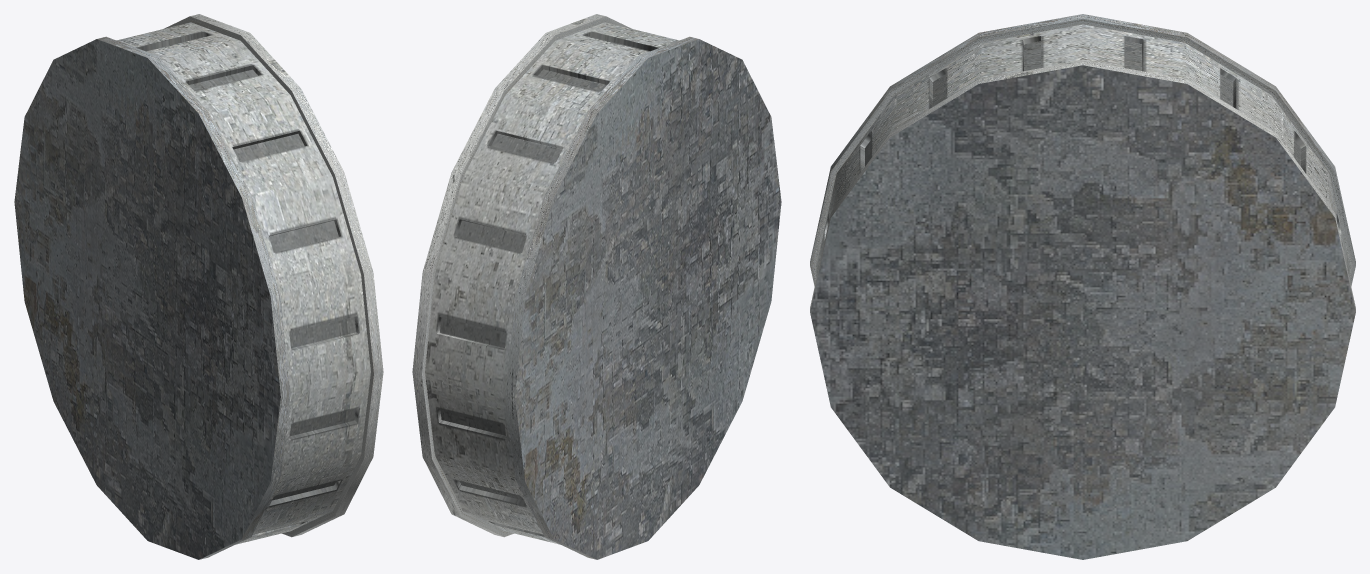
The model's file is F_Wheel_01.fbx.
3 views of the same model, side by side, from view 1: azimuth 30°, elevation 25°; view 2: azimuth 150°, elevation 25°; view 3: azimuth 270°, elevation 25° (orthographic). The views are drawn at different scales.
Visible parts, largest first — view 1: F_Wheel_01; view 2: F_Wheel_01; view 3: F_Wheel_01.
Part boxes in pixels (x1,y1,x2,y2): F_Wheel_01: [14, 14, 383, 559]; F_Wheel_01: [412, 14, 781, 559]; F_Wheel_01: [810, 14, 1355, 559].
Bounding box in the file's own units: 16.77 × 75.45 × 75.45.
1 material, 1 textured.
